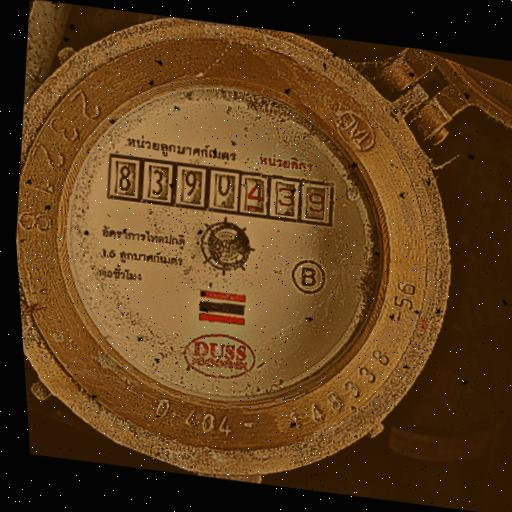0: (212, 174, 236, 209)
3: (272, 181, 297, 218), (145, 166, 172, 200)
4: (242, 179, 267, 215)
8: (113, 162, 138, 195)
9: (179, 170, 204, 204), (302, 187, 328, 219)
border_water_meter_number: (104, 153, 339, 228)
